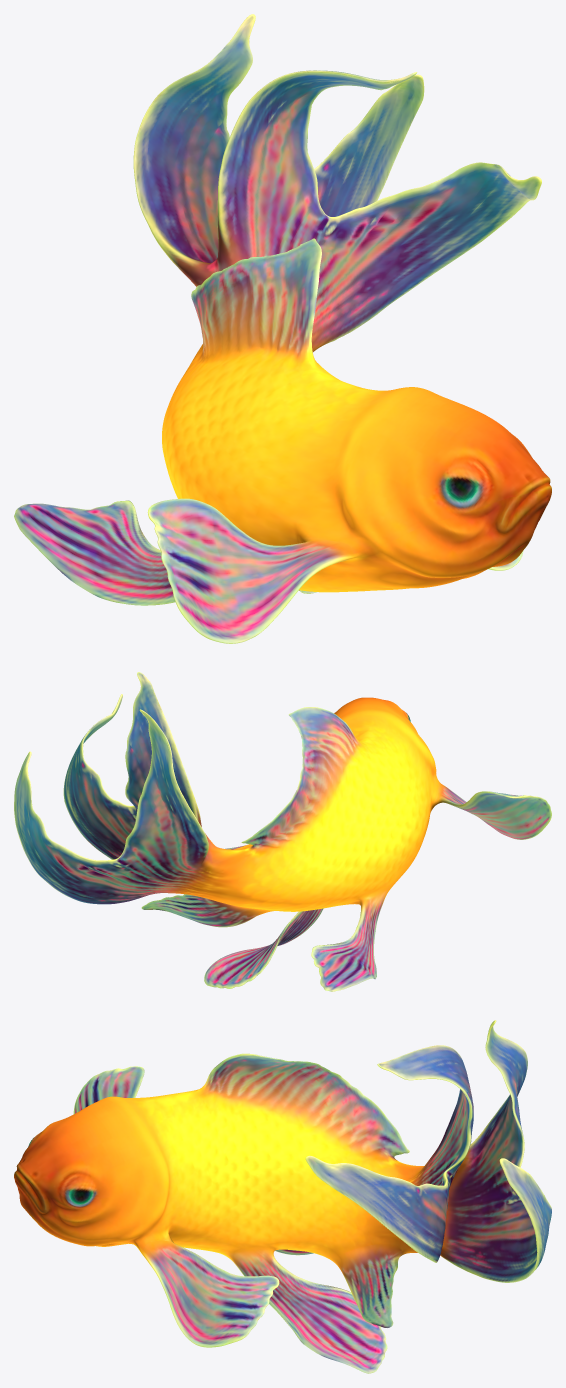
The model's file is shiny_fish.glb.
3 views of the same model, one above another, from view 1: azimuth 30°, elevation 25°; view 2: azimuth 150°, elevation 25°; view 3: azimuth 270°, elevation 25° (orthographic). The views are drawn at different scales.
Visible parts, largest first — view 1: G_Fish67_G_Fish_tex_0.002; view 2: G_Fish67_G_Fish_tex_0.002; view 3: G_Fish67_G_Fish_tex_0.002.
Part boxes in pixels (left/top/right/bottom): G_Fish67_G_Fish_tex_0.002: left=14, top=14, right=551, bottom=643; G_Fish67_G_Fish_tex_0.002: left=14, top=672, right=551, bottom=991; G_Fish67_G_Fish_tex_0.002: left=14, top=1020, right=551, bottom=1373.
Size of the model in its own units: 6.41 by 5.43 by 7.36.
1 material, 1 textured.
